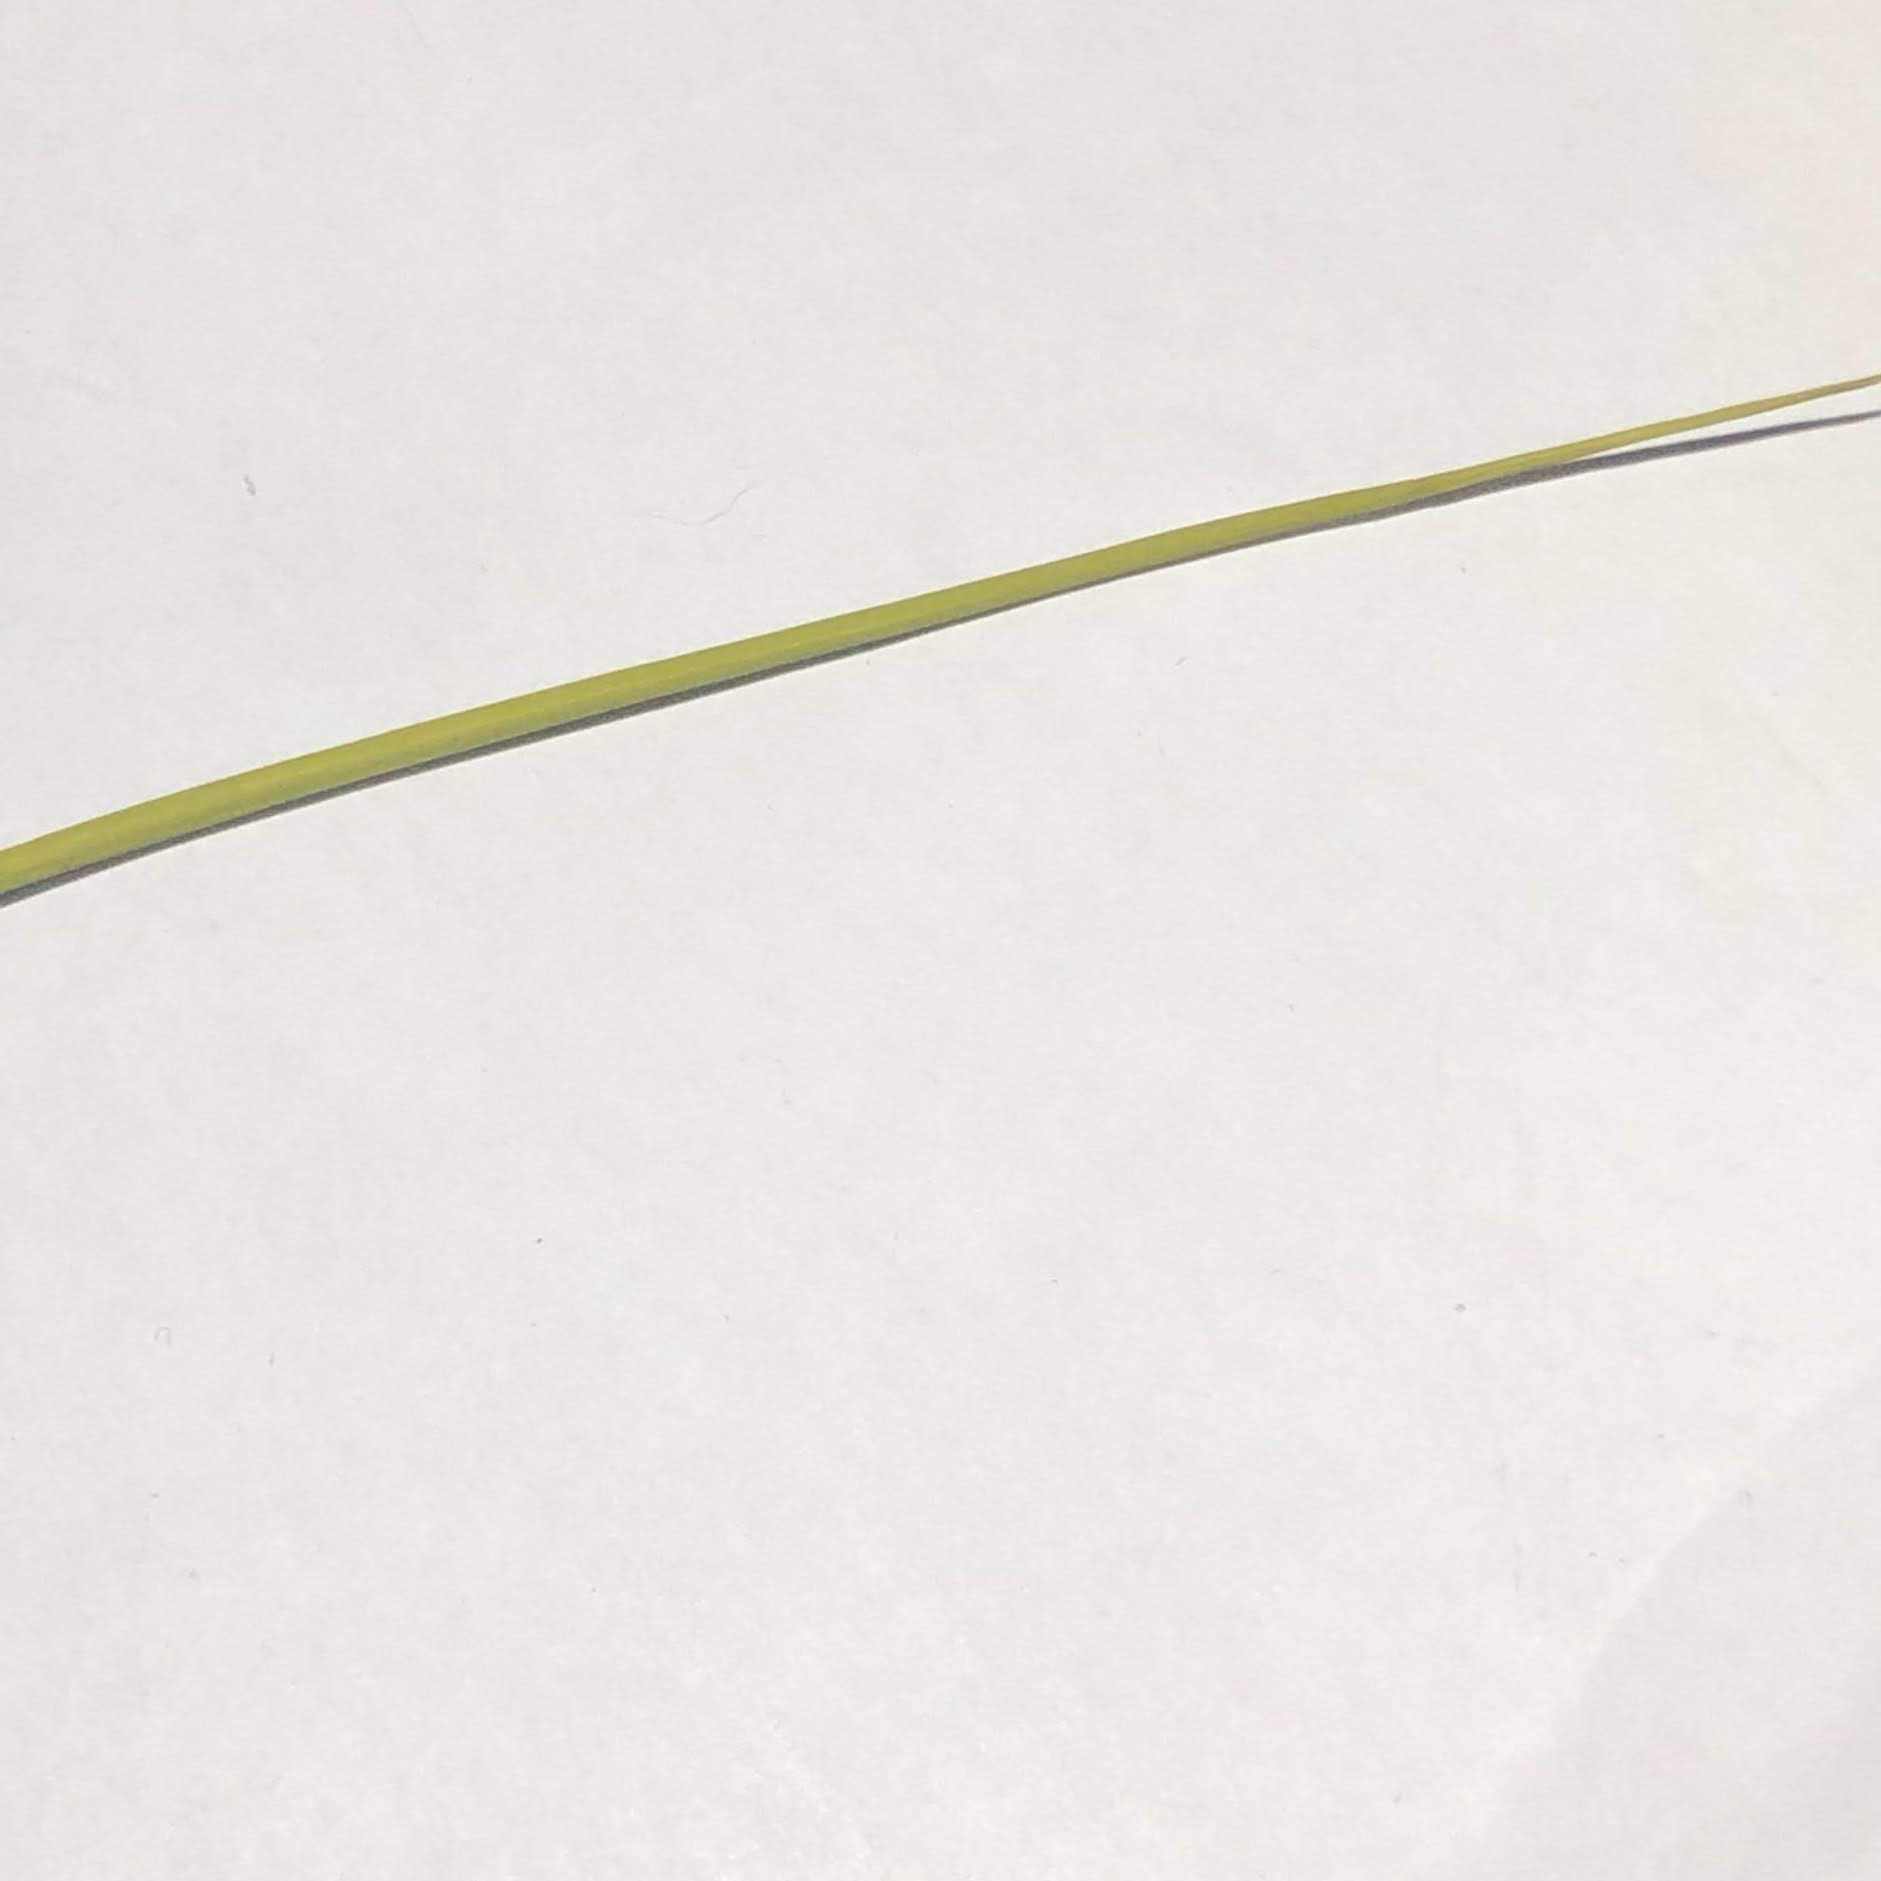healthy: (2, 358, 1871, 916)
